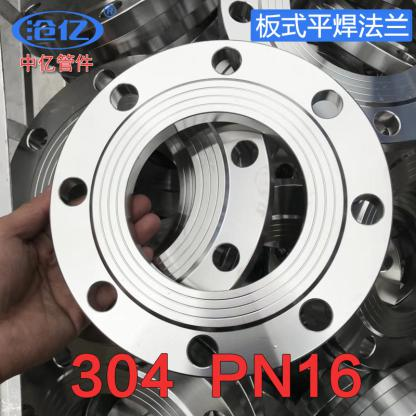FOD: (45, 35, 397, 386)
